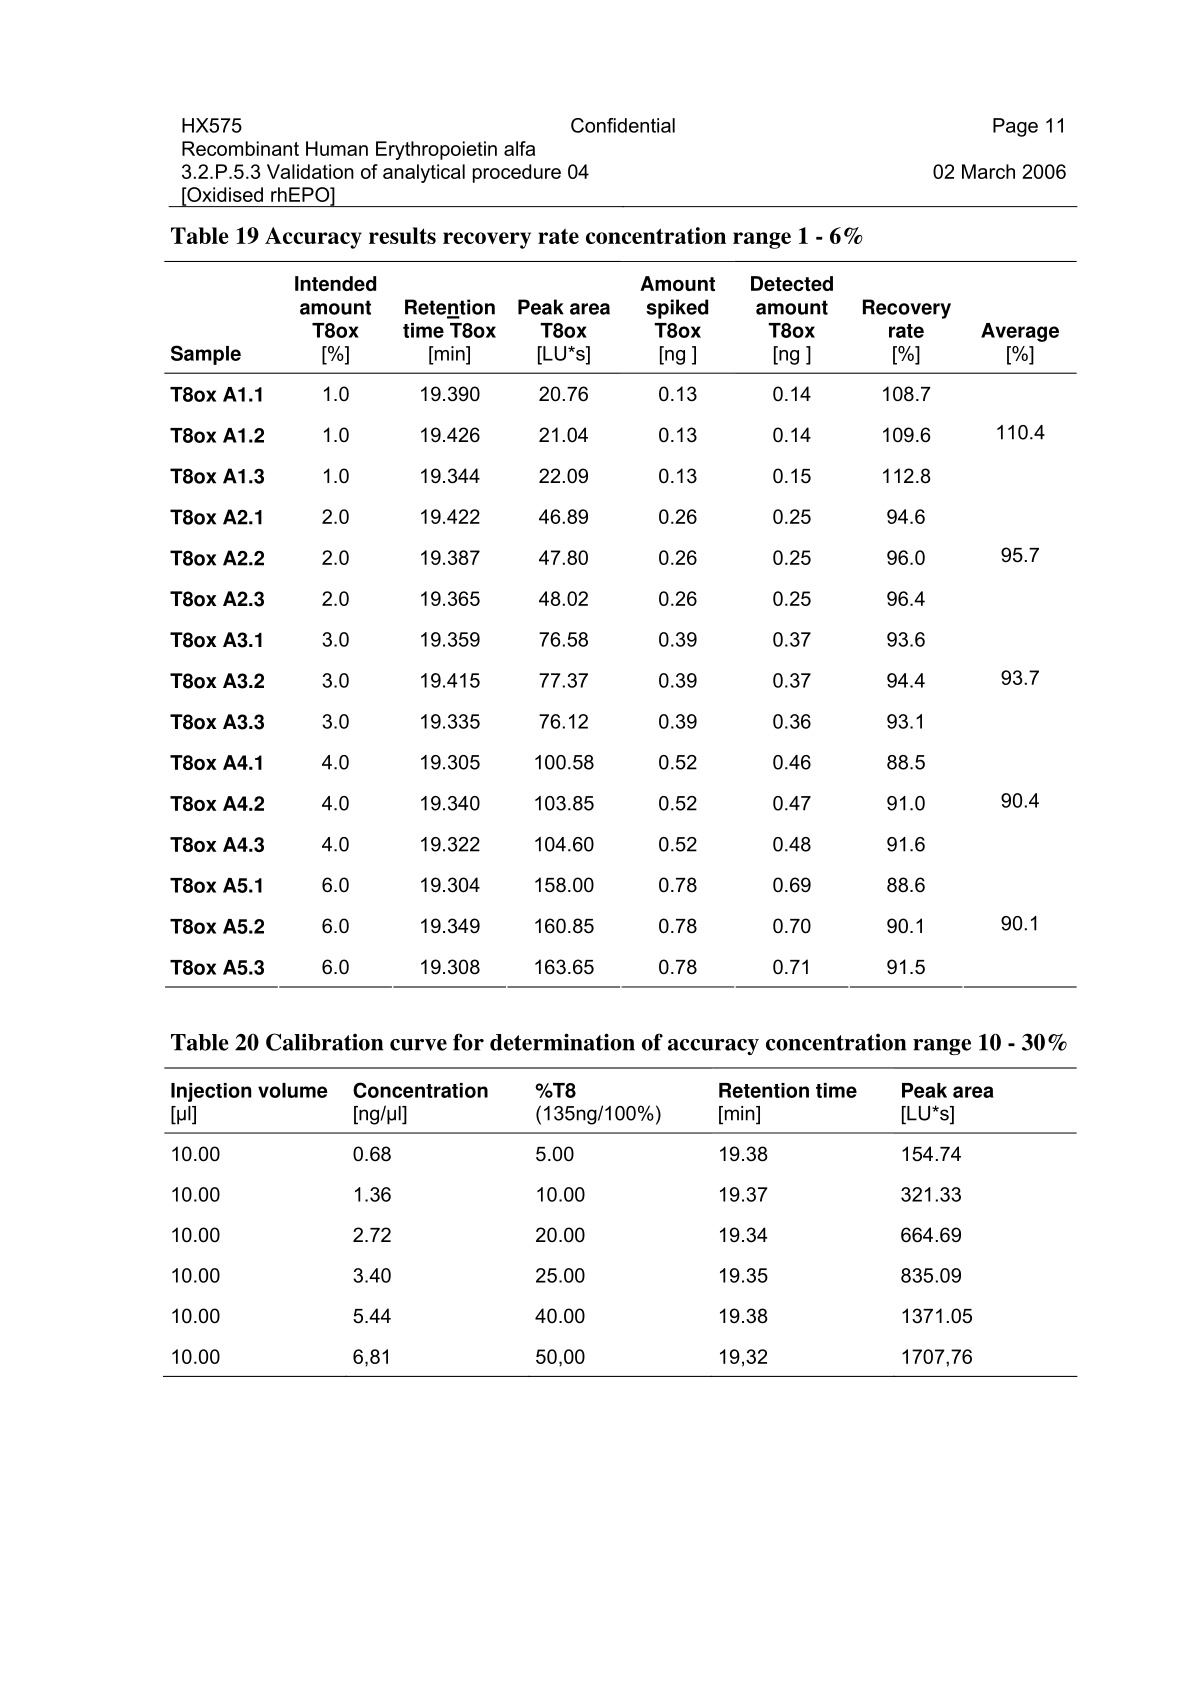partial_lined: (160, 257, 1078, 990), (164, 1063, 1081, 1379)
